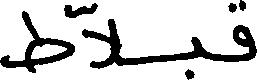X: (0, 0, 73, 77), (83, 0, 118, 73), (234, 0, 256, 66), (191, 32, 201, 79)
